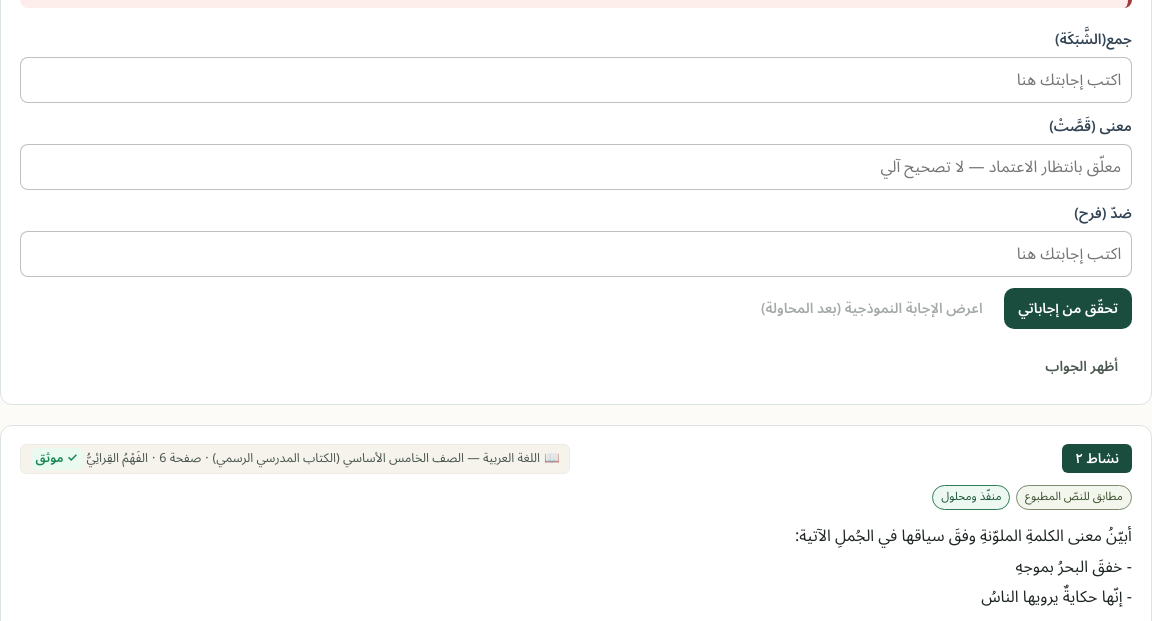
Lesson 1 — pending items never expose an unapproved answer › marks the «قَصَّتْ» meaning field as pending with no invented key
This screenshot has width=1152, height=621.
(page scrolled)
expect the field named "معنى (قَصَّتْ) (معلّق)" is shown: met, box [20, 144, 1132, 190]
Click the button "تحقّق من إجاباتي" at (1068, 309), box [1004, 288, 1132, 329]
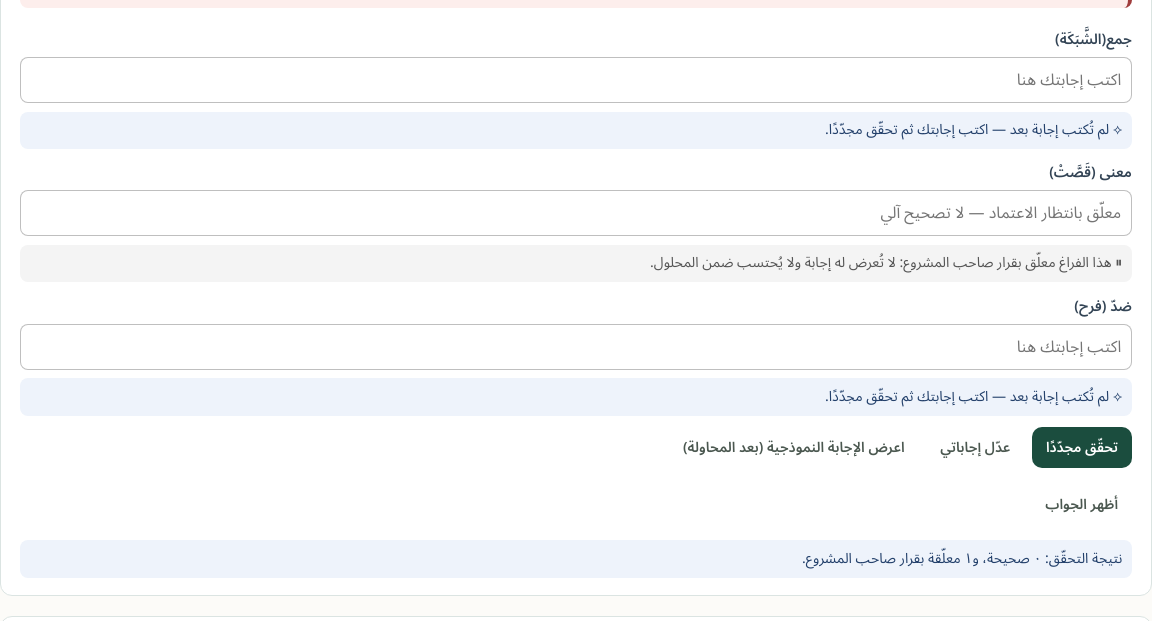
expect the text "معلّق بقرار صاحب المشروع" is shown: met, box [650, 248, 1122, 277]
expect the text "⟡ لم تُكتب إجابة بعد — اكتب إجابتك ثم تحقّق مجدّدًا." is shown 2 times: met, box [20, 112, 1132, 149]; [20, 378, 1132, 416]
